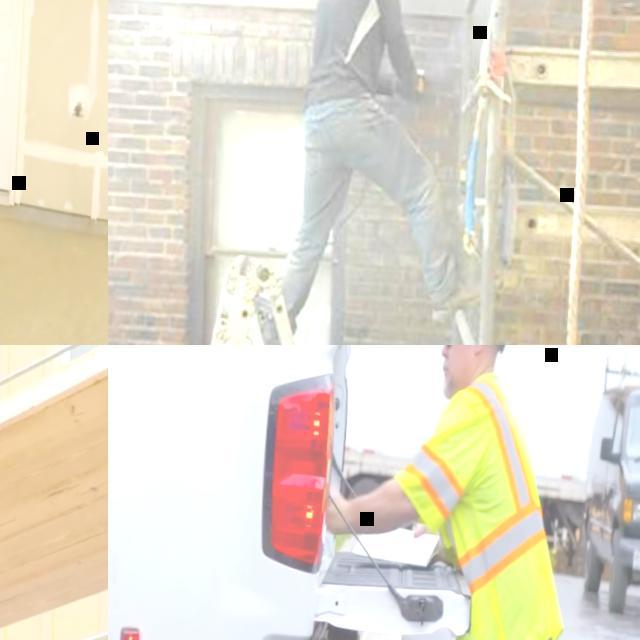vest: (389, 370, 559, 605)
